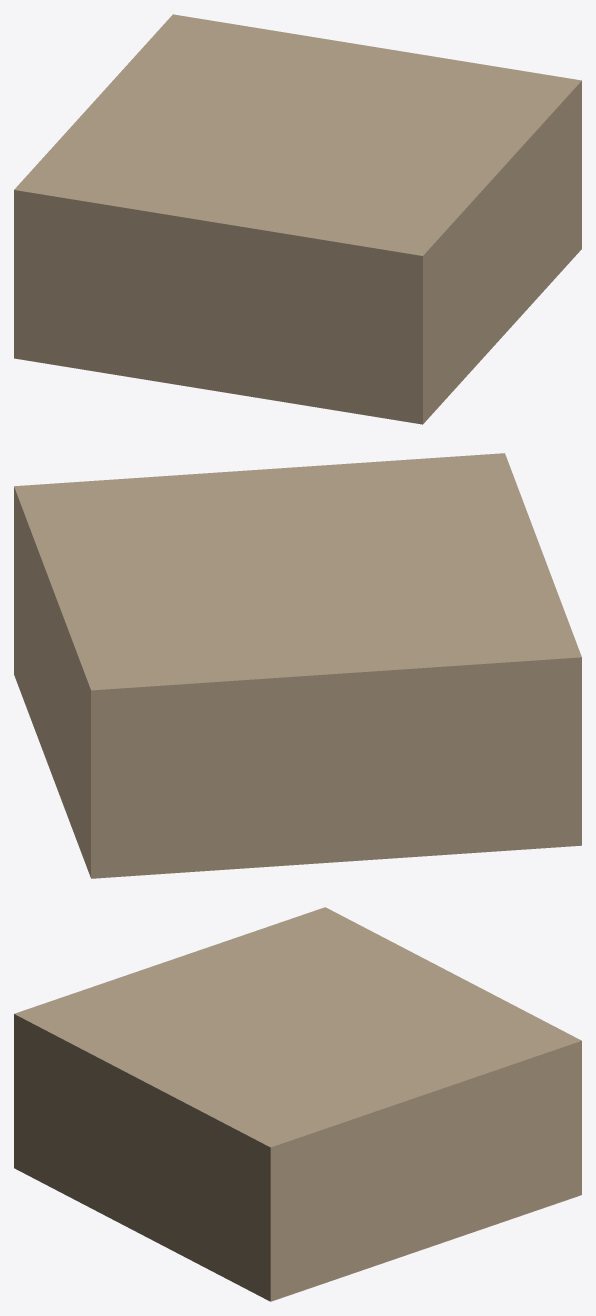
Rendered from bld_108400893.dae.
3 renders of one model, top to bottom at view 1: azimuth 30°, elevation 25°; view 2: azimuth 150°, elevation 25°; view 3: azimuth 270°, elevation 25°, orthographic. The views are drawn at different scales.
Visible parts, largest first — view 1: bld_108400893; view 2: bld_108400893; view 3: bld_108400893.
Boxes of the visible parts, x1=… form: bld_108400893: x1=14, y1=14, x2=581, y2=424; bld_108400893: x1=14, y1=453, x2=581, y2=878; bld_108400893: x1=14, y1=907, x2=581, y2=1301.
Size of the model in its own units: 26.73 by 26.68 by 8.
